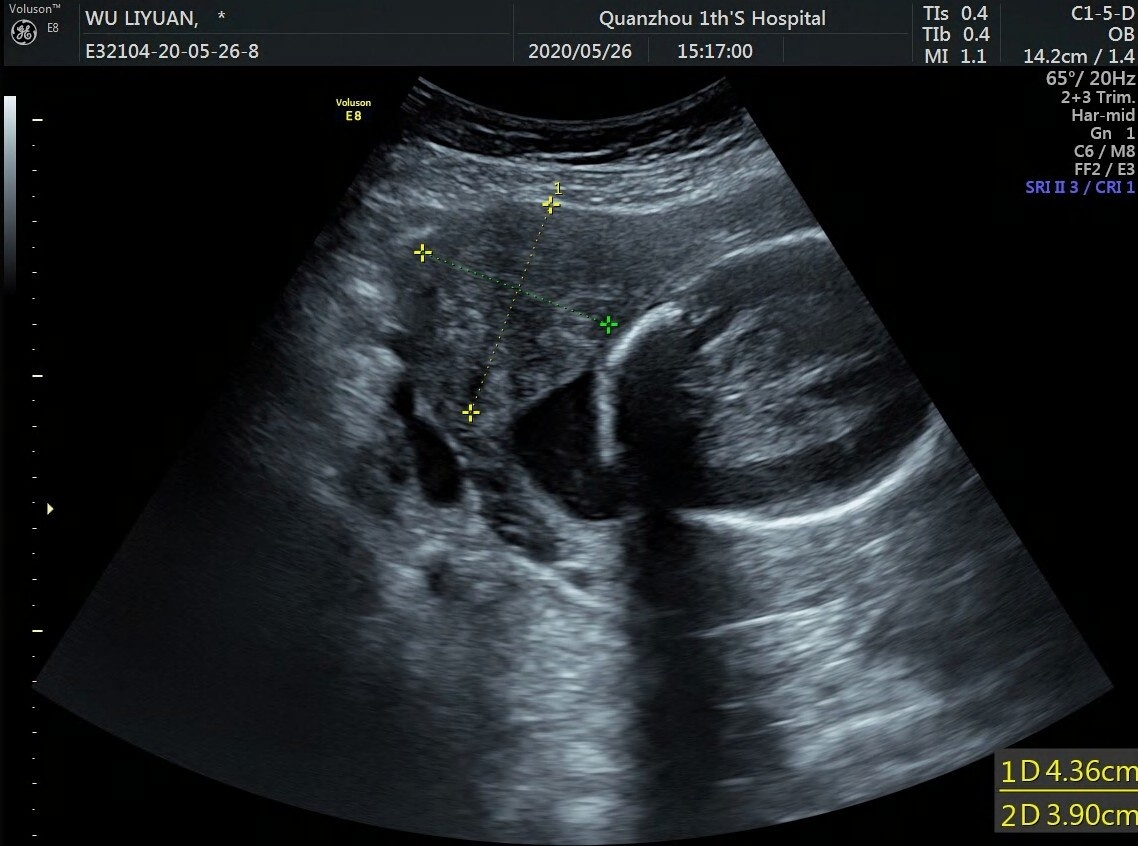肌瘤: (411, 205, 609, 429)
